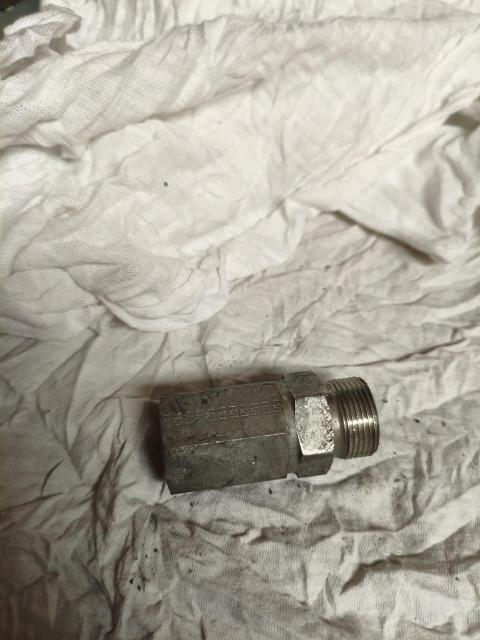Metal: (158, 365, 392, 490)
